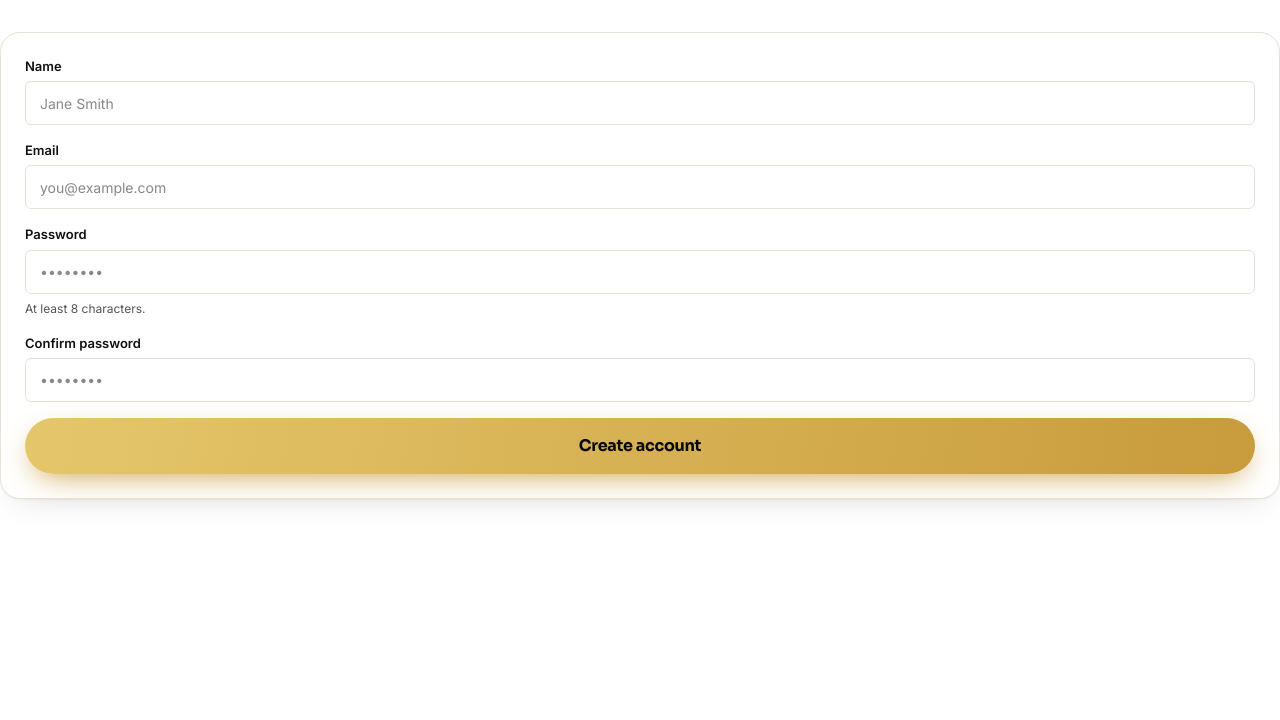
it: RegisterForm › validates required fields and password confirmation client-side
Type "Jane Doe" into the field labelled "Name".
click(640, 103); type("Jane Doe")  # box 25,81 -> 1255,125
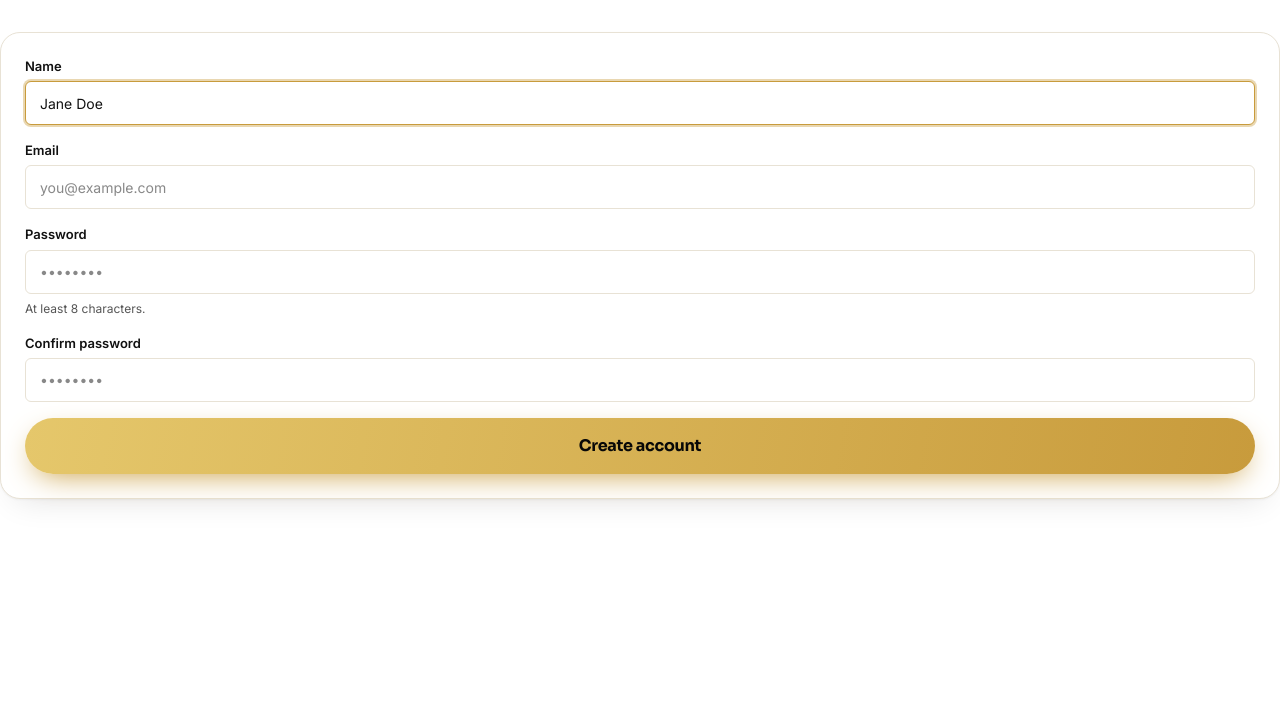
Type "jane@example.com" into the field labelled "Email".
click(640, 187); type("jane@example.com")  # box 25,165 -> 1255,209
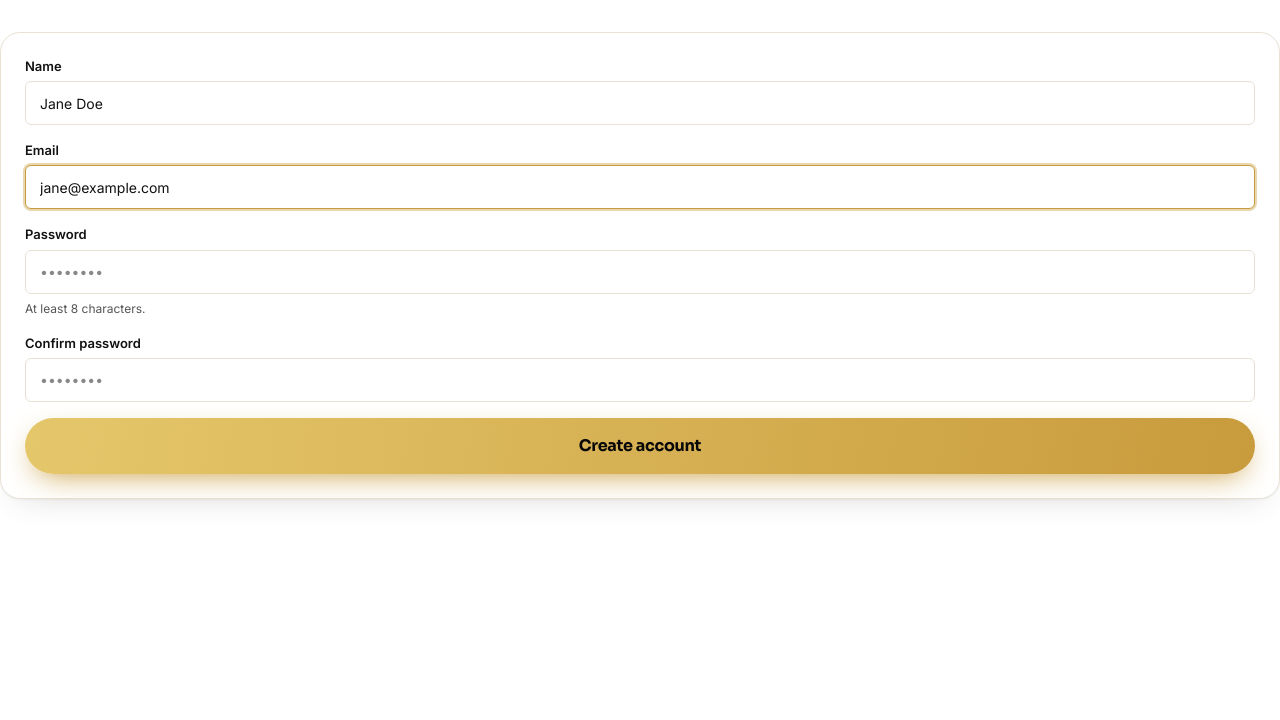
Type "password123" into the password field labelled "Password".
click(640, 272); type("password123")  # box 25,250 -> 1255,294
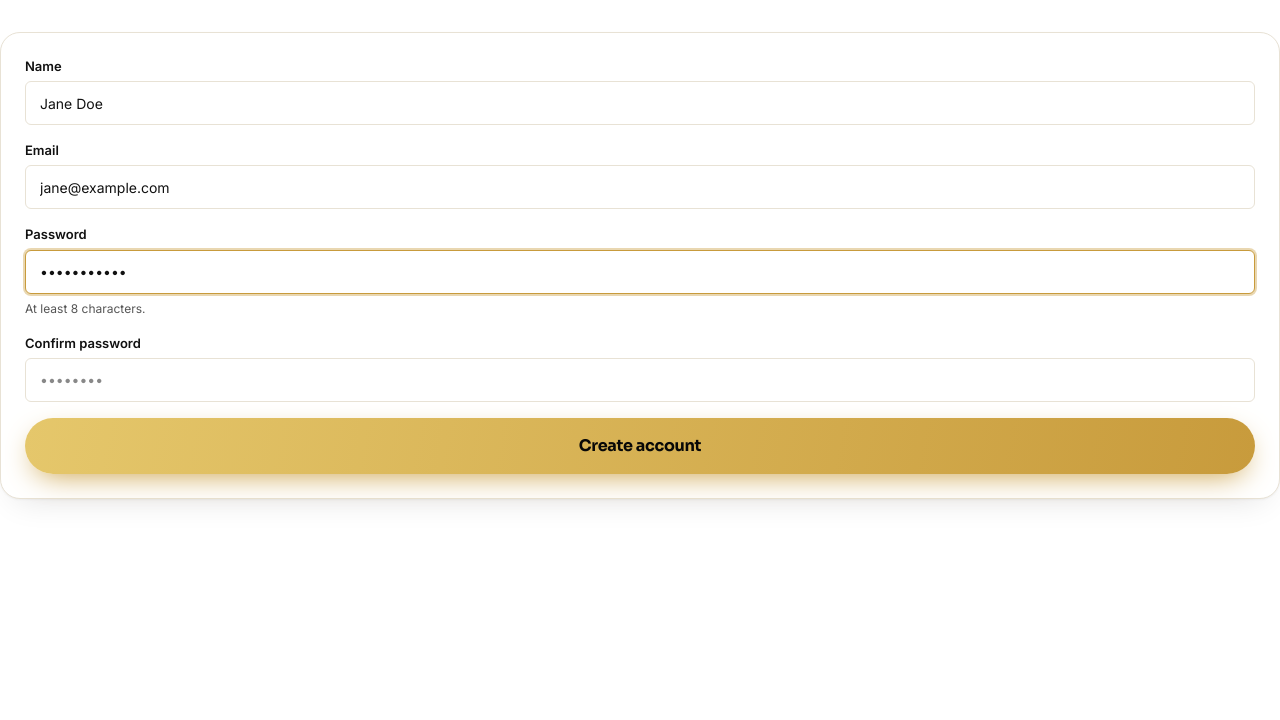
Type "different" into the password field labelled "Confirm password".
click(640, 380); type("different")  # box 25,358 -> 1255,402
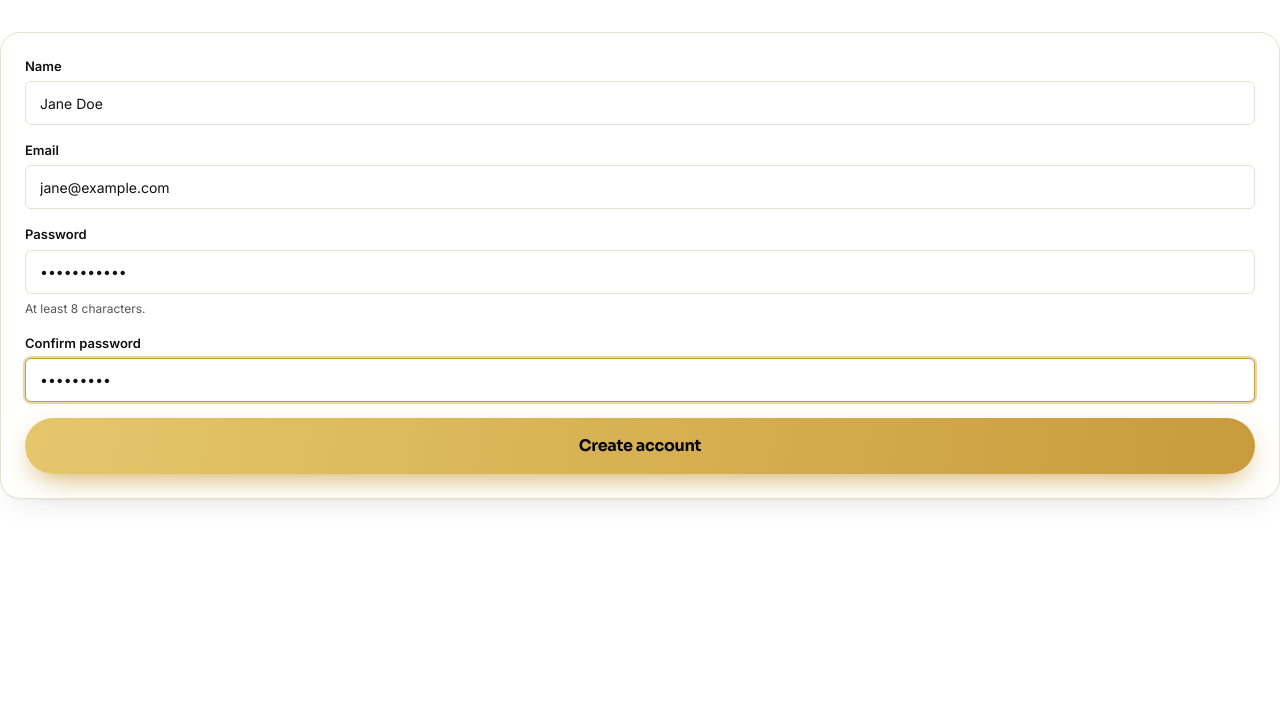
Click the button "Create account".
click(640, 446)  # box 25,418 -> 1255,474
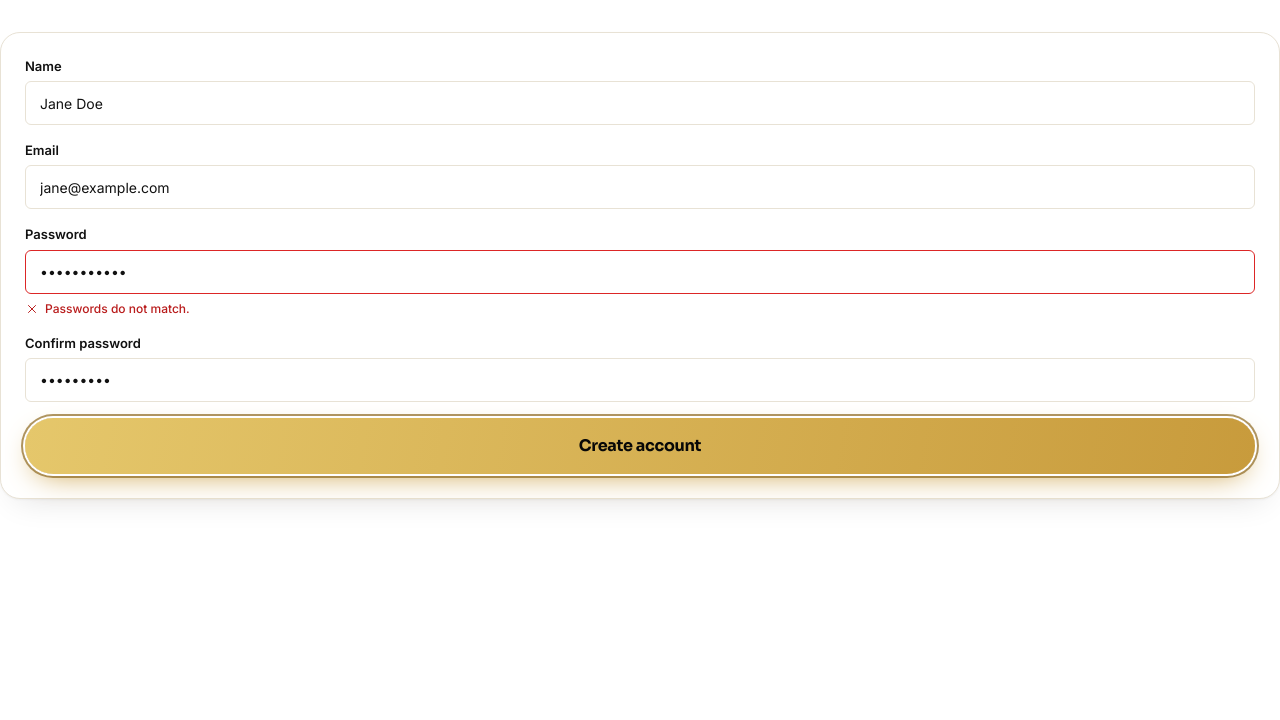
Result: the text "Passwords do not match." is shown at 25,301 -> 190,316
